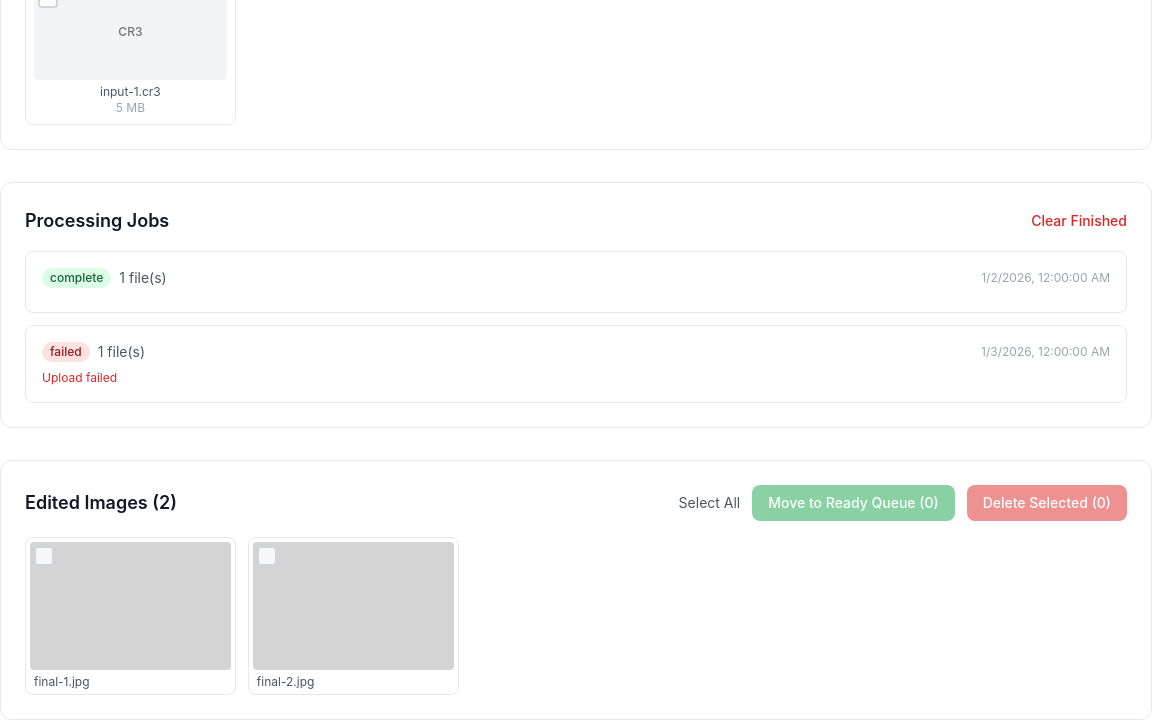
Test case: ImagenEditor › selects all edited images and deletes them
(page scrolled)
Check: the heading "Edited Images (2)" is shown, box [25,489,177,517]
What coordinates should you click on to do the following:
click the button "Select All"
I would click on:
 (709, 503)
Its box is [679,493,740,513].
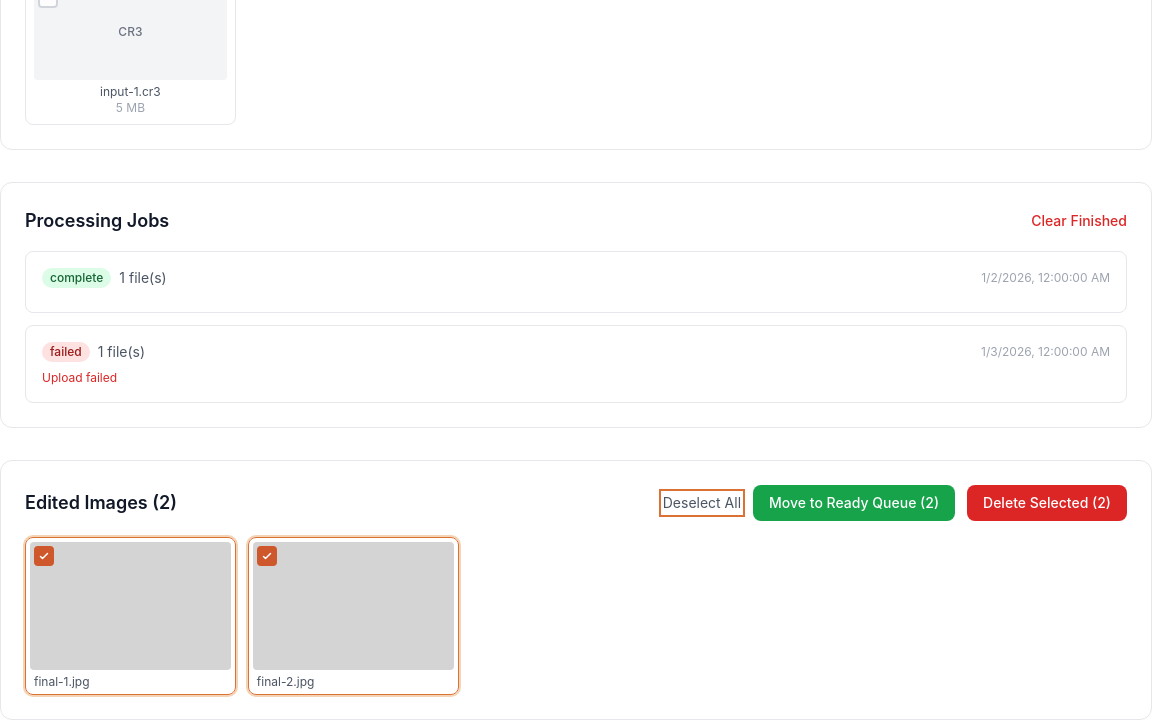
What coordinates should you click on to do the following:
click the button "Delete Selected (2)"
I would click on:
 (1047, 503)
Its box is [967,485,1127,521].
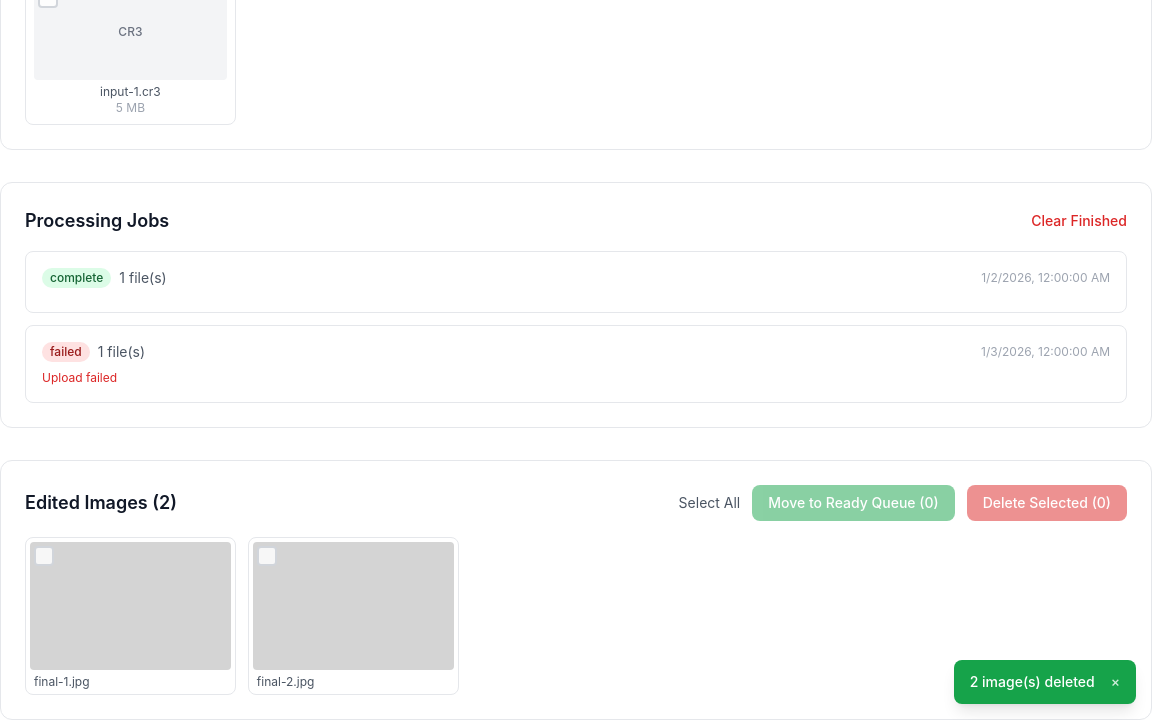
Check: the message shows "2 image(s) deleted", box [970,673,1095,690]
